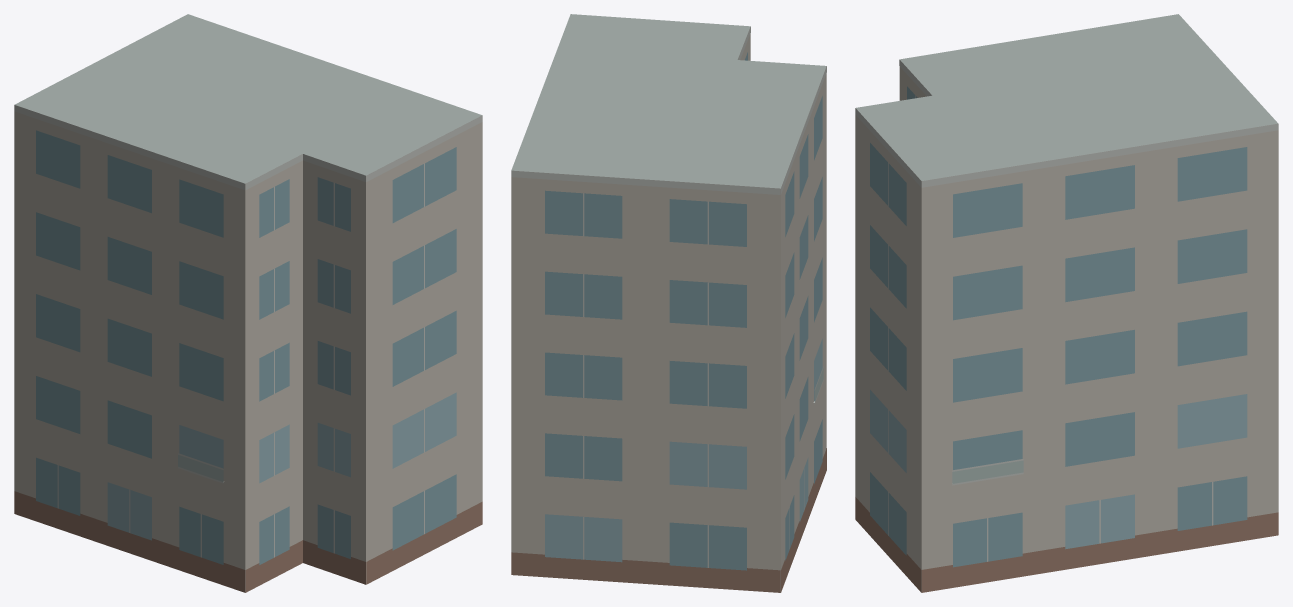
Rendered from survey-upis-32534446.glb.
The picture shows the model from 3 angles, left to right: view 1: azimuth 30°, elevation 25°; view 2: azimuth 150°, elevation 25°; view 3: azimuth 270°, elevation 25°; orthographic projection.
Visible parts, largest first — view 1: survey-upis-32534446.tmp; view 2: survey-upis-32534446.tmp; view 3: survey-upis-32534446.tmp.
Part boxes in pixels (box(x1,y1,x2,y2)): survey-upis-32534446.tmp: box(14, 14, 482, 592); survey-upis-32534446.tmp: box(511, 14, 826, 592); survey-upis-32534446.tmp: box(855, 14, 1278, 592).
Bounding box in the file's own units: 13.21 × 15.16 × 14.13.
